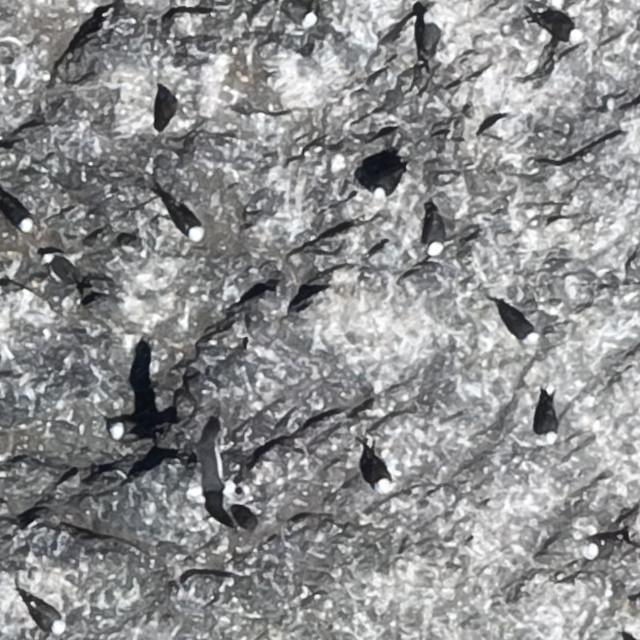umineko: (192, 436, 236, 526), (498, 304, 536, 341), (536, 14, 580, 38), (365, 451, 391, 491), (585, 534, 623, 561), (4, 195, 34, 229), (30, 602, 63, 632), (174, 207, 203, 240), (285, 0, 317, 28), (372, 172, 399, 198), (540, 403, 558, 441), (109, 418, 140, 438), (428, 220, 445, 255), (421, 18, 437, 52)
